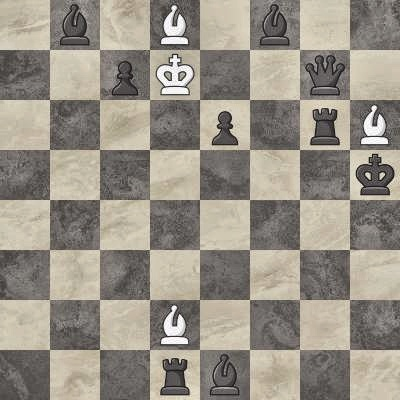black-bishop: (50, 0, 100, 50), (250, 0, 300, 50), (200, 350, 250, 400)
black-king: (350, 150, 400, 200)
black-pawn: (100, 50, 150, 100), (200, 100, 250, 150)
black-queen: (300, 50, 350, 100)
black-rook: (300, 100, 350, 150), (150, 350, 200, 400)
white-bishop: (150, 0, 200, 50), (350, 100, 400, 150), (150, 300, 200, 350)
white-king: (150, 50, 200, 100)
